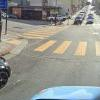crosswalks: (26, 41, 100, 57), (22, 26, 67, 39)
